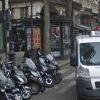Motorcycle: (7, 54, 65, 100)
